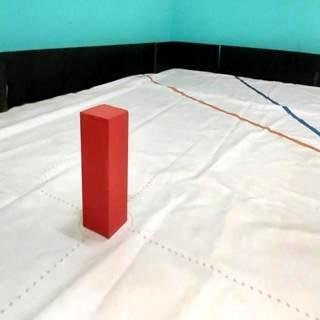redbox: (80, 104, 130, 242)
